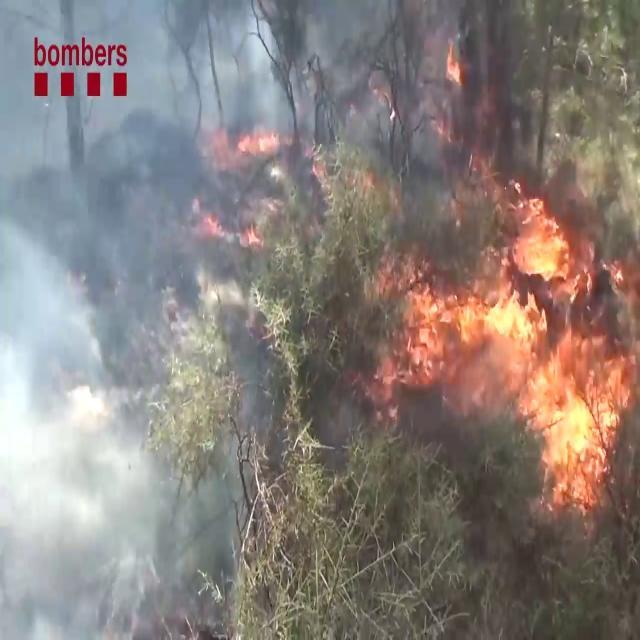Fire: (386, 192, 639, 507)
Smoke: (0, 65, 204, 638)
